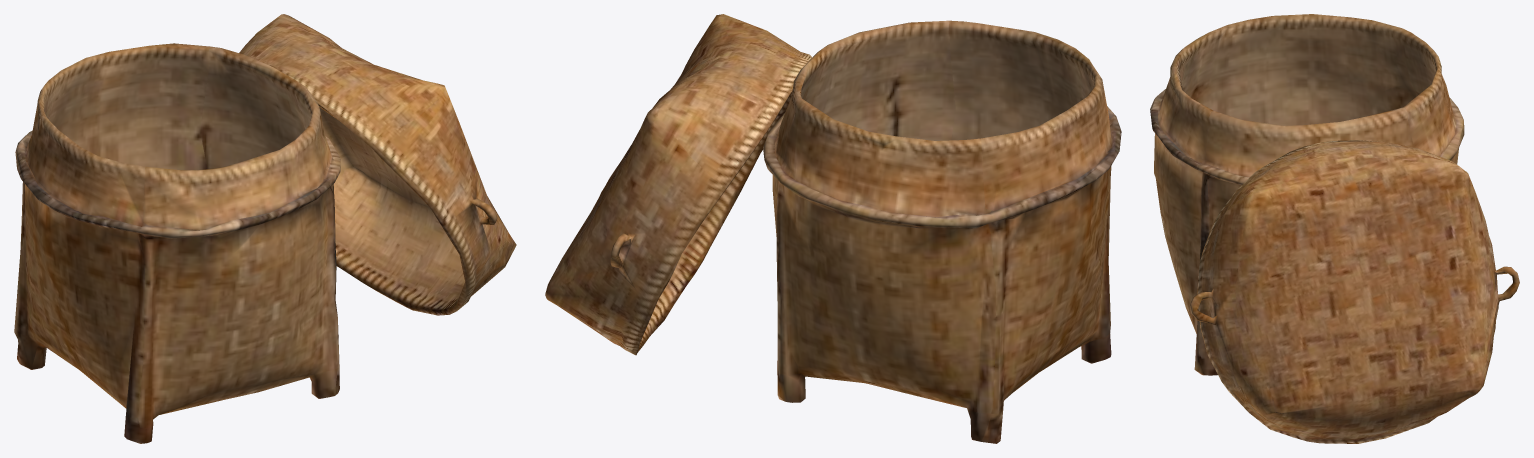
File: wicker_basket_02.glb
3 renders of one model, left to right at view 1: azimuth 30°, elevation 25°; view 2: azimuth 150°, elevation 25°; view 3: azimuth 270°, elevation 25°, orthographic. The views are drawn at different scales.
Parts seen in each view (by area): view 1: wicker_basket_02_base, wicker_basket_02_lid; view 2: wicker_basket_02_base, wicker_basket_02_lid; view 3: wicker_basket_02_lid, wicker_basket_02_base.
Part boxes in pixels (x1=…): wicker_basket_02_base: x1=14, y1=43, x2=340, y2=443; wicker_basket_02_lid: x1=239, y1=14, x2=516, y2=315; wicker_basket_02_base: x1=763, y1=20, x2=1121, y2=443; wicker_basket_02_lid: x1=545, y1=14, x2=812, y2=355; wicker_basket_02_lid: x1=1189, y1=140, x2=1519, y2=443; wicker_basket_02_base: x1=1150, y1=14, x2=1464, y2=375.
Size of the model in its own units: 0.3469 by 0.2004 by 0.2541.
Materials: 1 (1 with a texture image).
